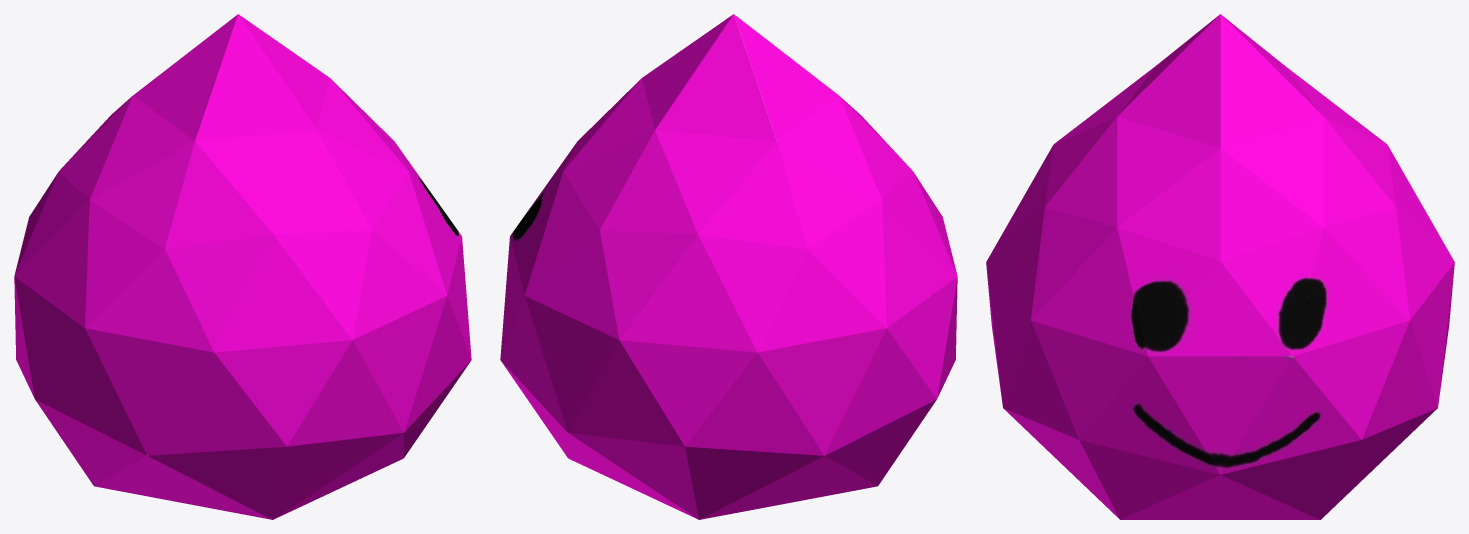
The model's file is SlimeMurasaki.fbx.
The picture shows the model from 3 angles, left to right: view 1: azimuth 30°, elevation 25°; view 2: azimuth 150°, elevation 25°; view 3: azimuth 270°, elevation 25°; orthographic projection. The views are drawn at different scales.
Visible parts, largest first — view 1: Icosphere; view 2: Icosphere; view 3: Icosphere.
Boxes of the visible parts, x1,y1,x2,y2 form: Icosphere: (14, 14, 471, 519); Icosphere: (500, 14, 957, 519); Icosphere: (986, 14, 1454, 519).
Bounding box in the file's own units: 213 × 248 × 213.
